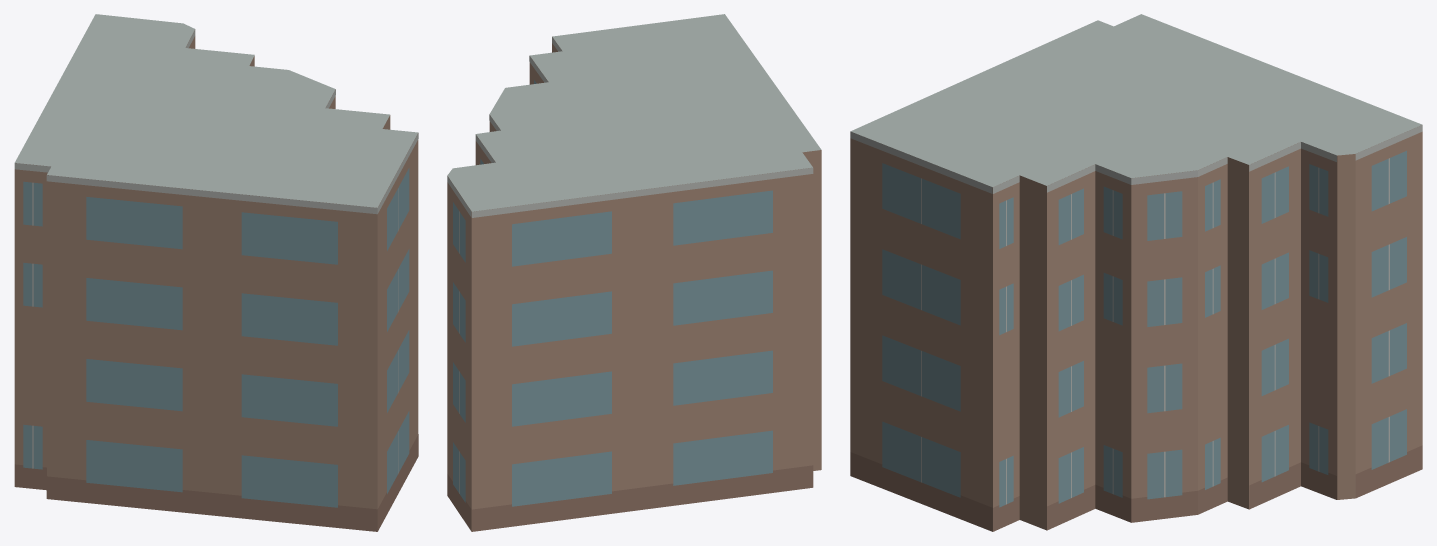
File: survey-upis-32674484.glb
3 renders of one model, left to right at view 1: azimuth 30°, elevation 25°; view 2: azimuth 150°, elevation 25°; view 3: azimuth 270°, elevation 25°, orthographic. The views are drawn at different scales.
Visible parts, largest first — view 1: survey-upis-32674484.tmp; view 2: survey-upis-32674484.tmp; view 3: survey-upis-32674484.tmp.
Boxes of the visible parts, x1,y1,x2,y2 form: survey-upis-32674484.tmp: [14, 14, 418, 531]; survey-upis-32674484.tmp: [447, 14, 821, 531]; survey-upis-32674484.tmp: [850, 14, 1422, 531].
Size of the model in its own units: 13.28 by 12.3 by 18.52.
